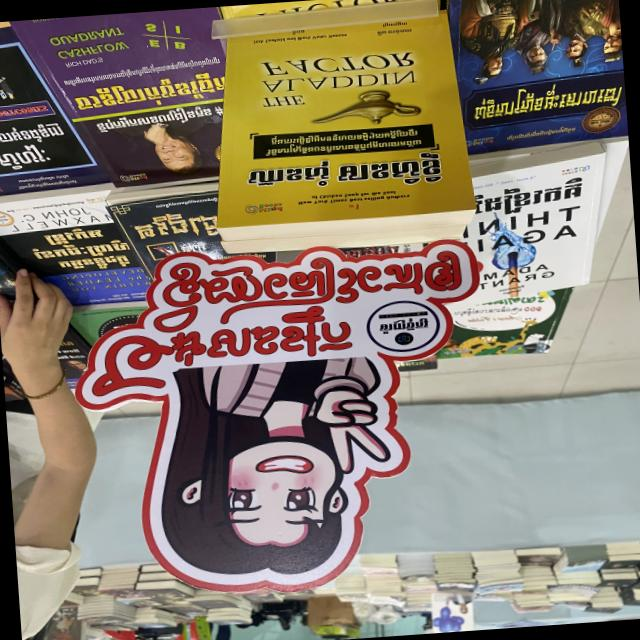1: (17, 172, 71, 184), (373, 25, 415, 39)
503: (354, 201, 360, 211)
Yolov11_80vkh: (147, 242, 464, 336), (87, 299, 361, 405), (65, 67, 229, 117), (469, 74, 621, 124), (59, 52, 221, 91), (334, 145, 446, 190), (91, 102, 218, 136), (261, 136, 422, 159), (267, 124, 421, 147), (240, 157, 336, 191), (0, 117, 74, 148), (0, 140, 63, 176), (505, 123, 577, 142), (376, 316, 431, 338), (17, 176, 78, 190), (381, 19, 413, 30)
